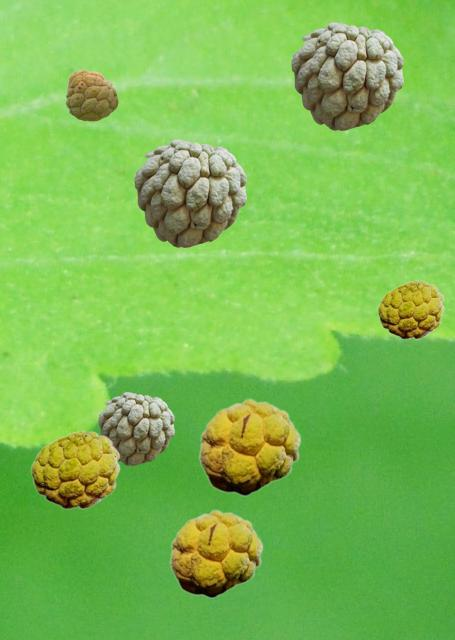atis: (291, 22, 402, 129), (134, 139, 245, 246), (198, 398, 300, 495), (169, 509, 262, 597), (30, 430, 119, 508), (98, 392, 173, 464), (377, 280, 443, 338), (65, 69, 117, 120)
